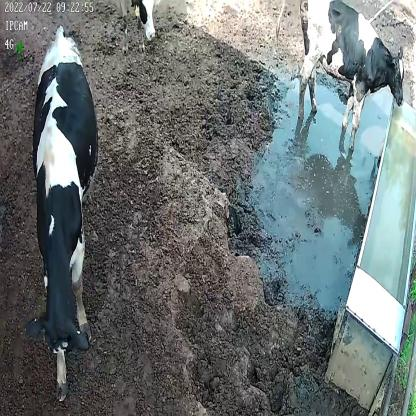cow: (29, 26, 99, 406), (298, 0, 405, 149)
